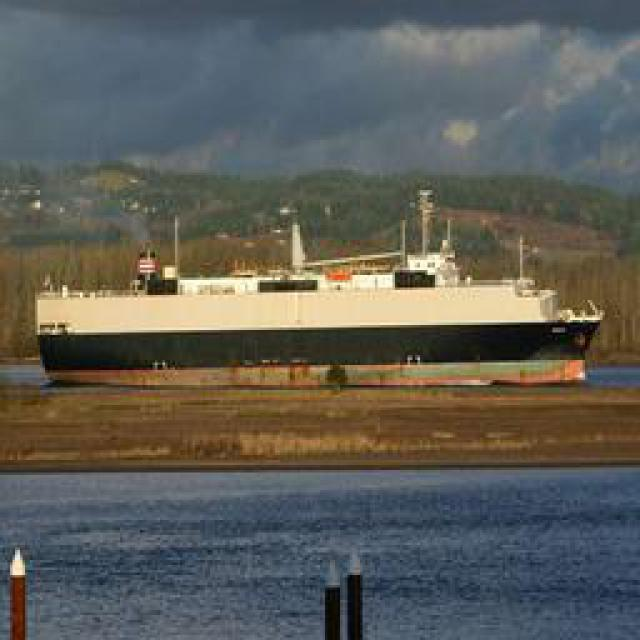Ship: (32, 256, 592, 376)
